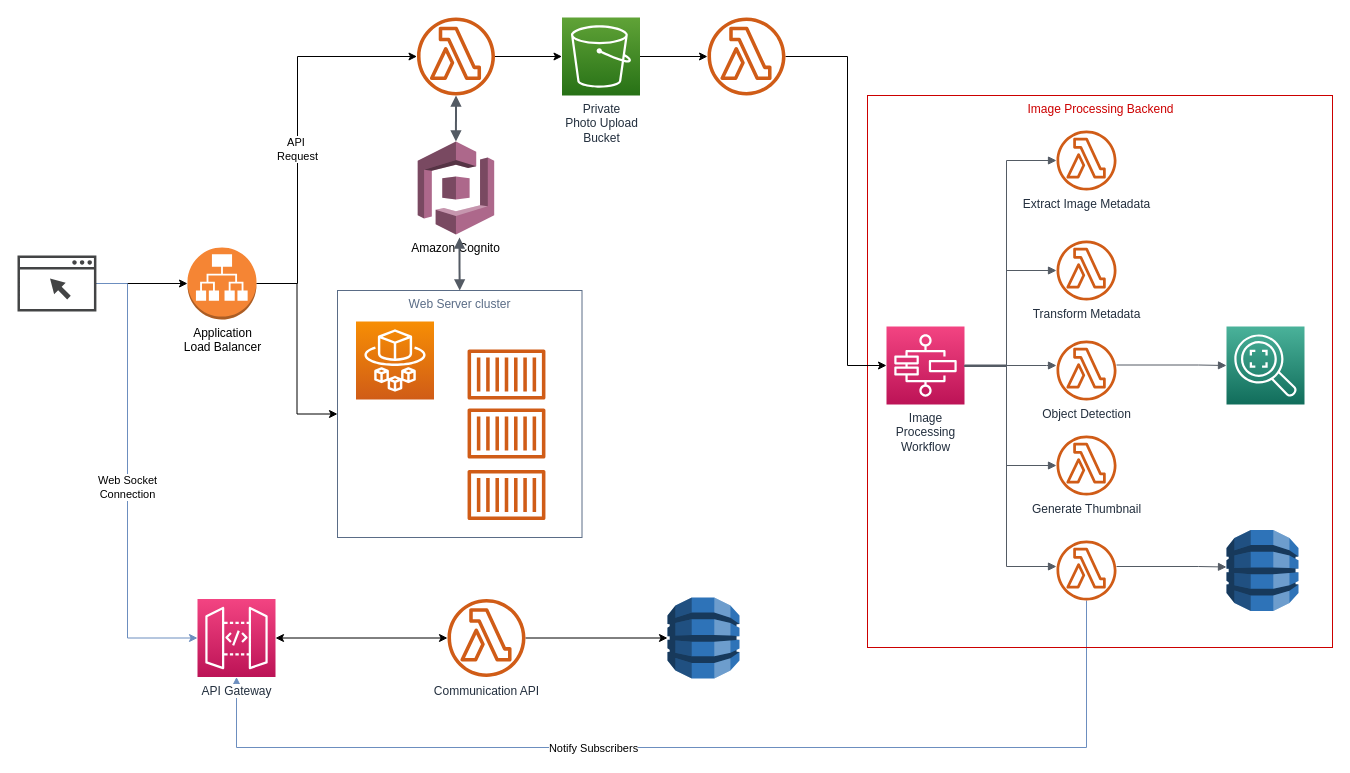
This 1350x773 diagram has some shape labels left out. The centre of each missing label's shape, as x and y in pixels:
"AWS Fargate" goes at point (394, 360).
"Browser" goes at point (56, 283).
"Connection Store" goes at point (703, 637).
"Recognition API" goes at point (455, 56).
"S3 Trigger" goes at point (746, 56).
"Store Image Metadata And Notify Subscribers" goes at point (1086, 570).
